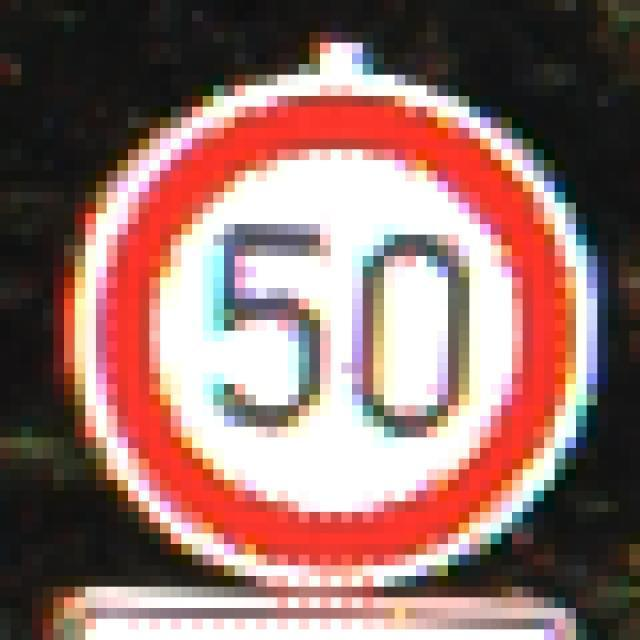Ograniczenie predkosci do 50: (100, 96, 567, 575)
